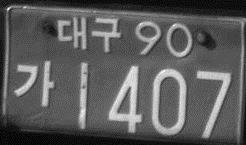0: (150, 66, 187, 136), (166, 20, 193, 59)
1: (75, 59, 89, 133)
4: (105, 63, 144, 135)
7: (194, 67, 233, 140)
9: (133, 19, 162, 57)
가: (13, 59, 56, 108)
대구_O: (55, 14, 122, 53)
